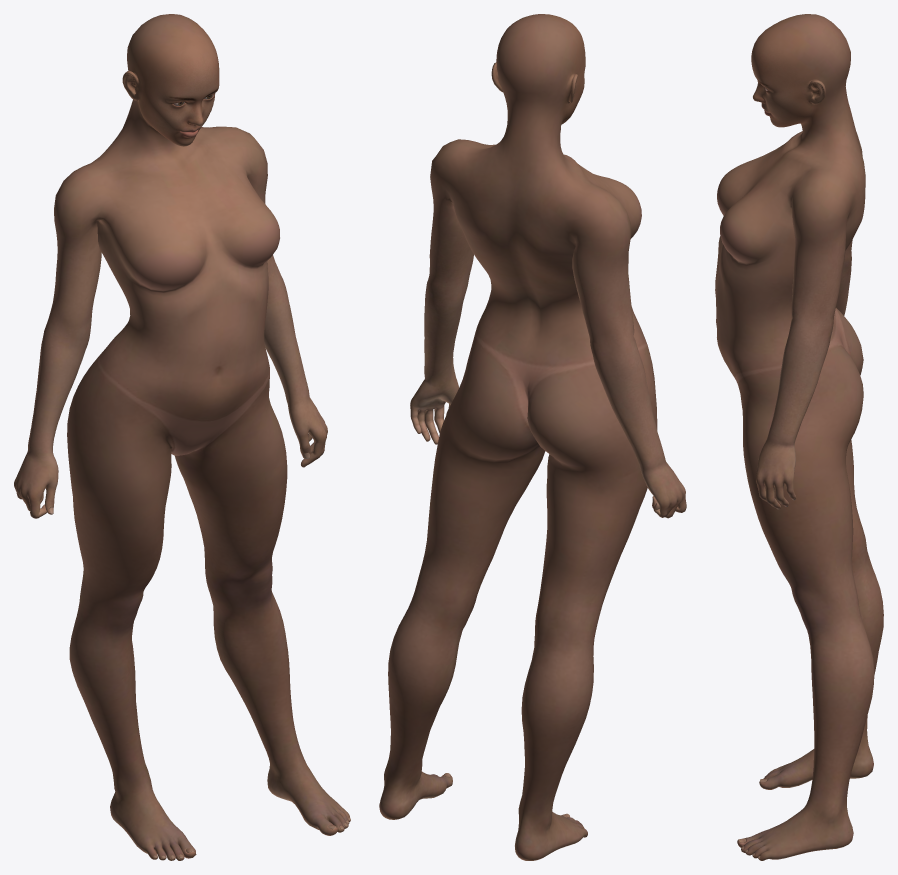
The picture shows the model from 3 angles, left to right: view 1: azimuth 30°, elevation 25°; view 2: azimuth 150°, elevation 25°; view 3: azimuth 270°, elevation 25°; orthographic projection. The views are drawn at different scales.
Parts seen in each view (by area): view 1: mesh_character_l.001; view 2: mesh_character_l.001; view 3: mesh_character_l.001.
Boxes of the visible parts, <box> form: mesh_character_l.001: <box>14,14,350,860</box>; mesh_character_l.001: <box>379,14,686,860</box>; mesh_character_l.001: <box>715,14,883,860</box>.
Size of the model in its own units: 0.6769 by 1.77 by 0.3486.
1 material, 1 textured.
